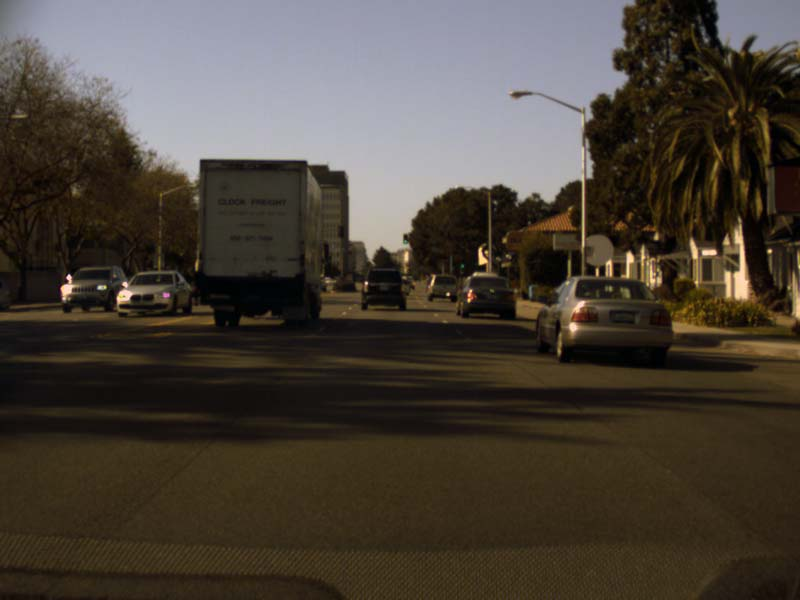Green: (459, 258, 464, 268), (403, 234, 407, 243)
